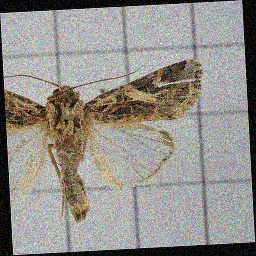Spodoptera litura: (7, 62, 207, 223)
